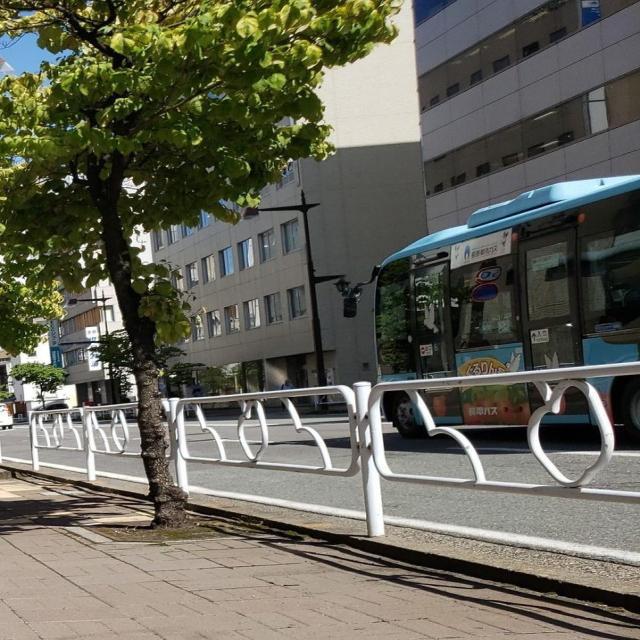dogwood: (0, 0, 404, 529)
